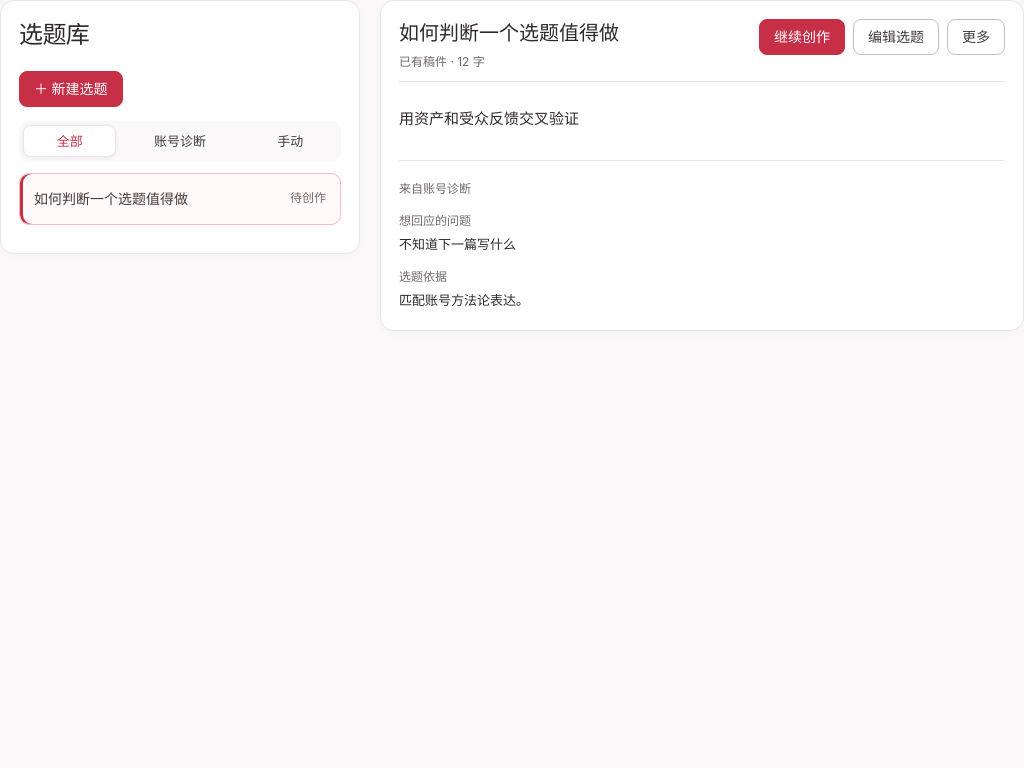
Test: edits only title and angle, preserves the saved body, and allows explicit cancellation
The width and height of the screenshot is (1024, 768).
Click the button "编辑选题": click(896, 37) left=853, top=19, right=939, bottom=55
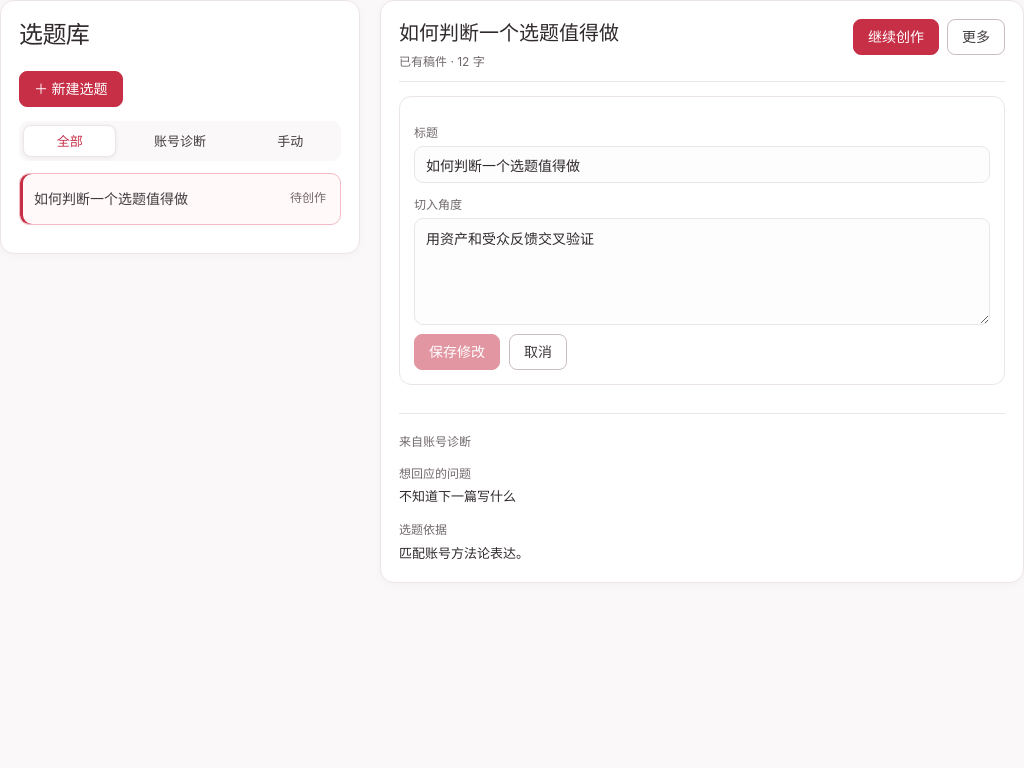
Replace the text in the text box labelled "切入角度" with "重新考虑切入角度": (702, 271) left=414, top=218, right=990, bottom=325
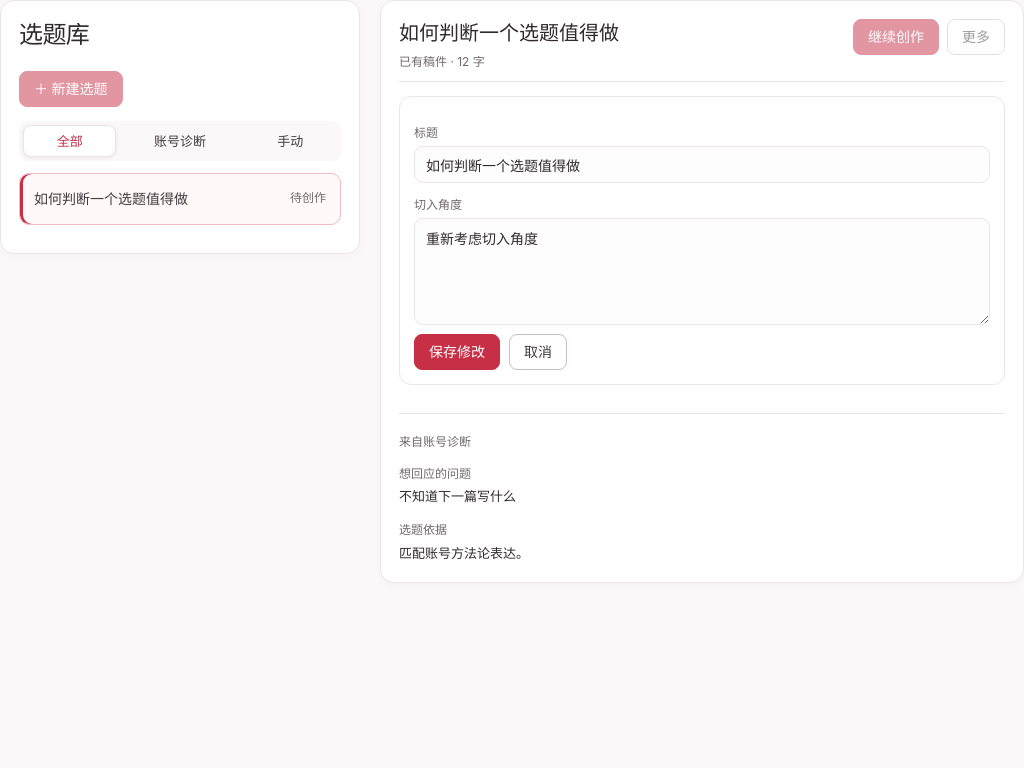
Expected: the button "继续创作" is disabled, left=853, top=19, right=939, bottom=55
Click the button "取消": click(538, 352) left=509, top=334, right=567, bottom=370
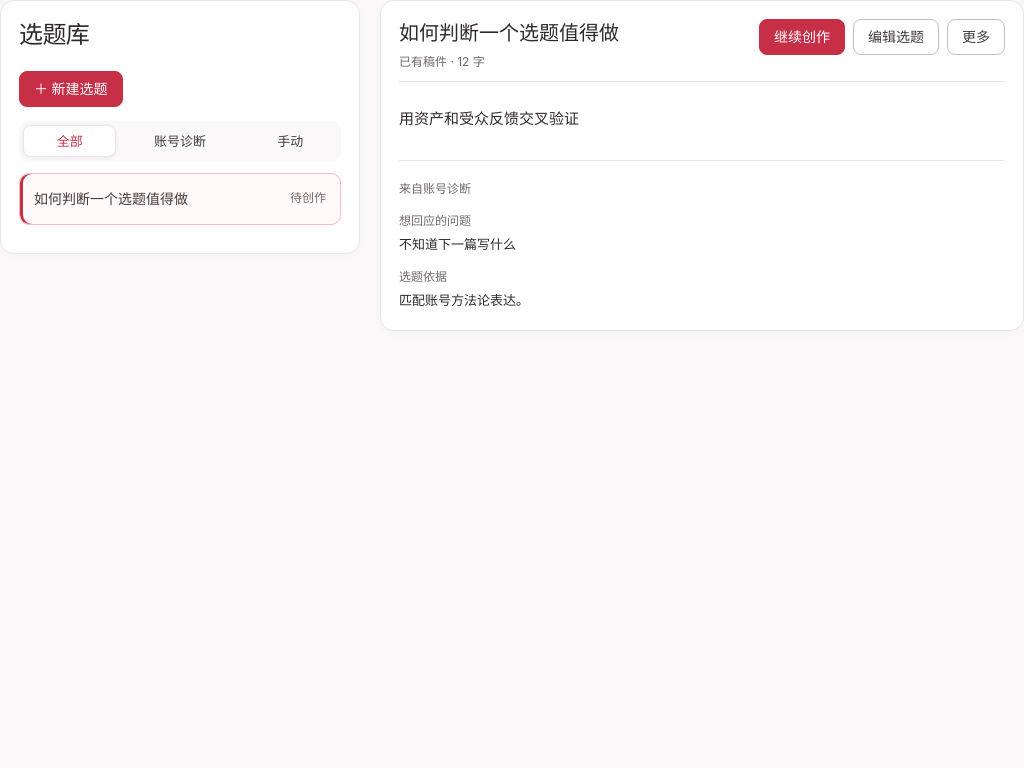
Expected: the label labelled "标题" is gone
Expected: the text "用资产和受众反馈交叉验证" is shown, left=399, top=109, right=579, bottom=128
